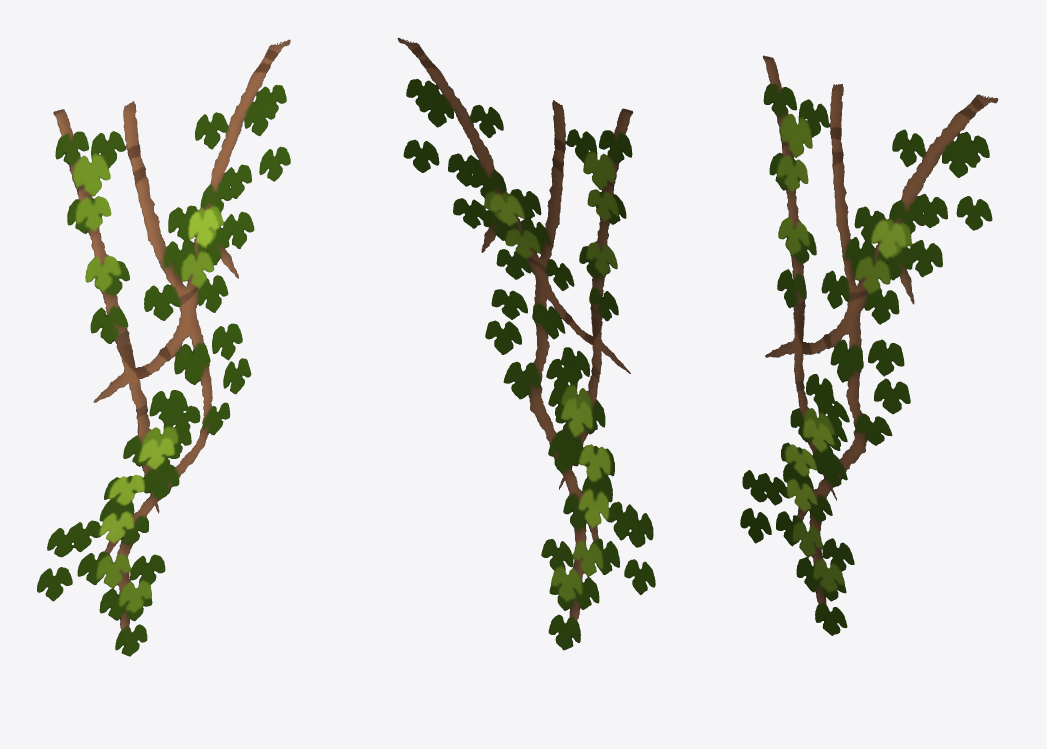
The model's file is sp_veg_ivy_01.fbx.
3 views of the same model, side by side, from view 1: azimuth 30°, elevation 25°; view 2: azimuth 150°, elevation 25°; view 3: azimuth 330°, elevation 25° (orthographic).
Parts seen in each view (by area): view 1: veg_ivy_01; view 2: veg_ivy_01; view 3: veg_ivy_01.
Boxes of the visible parts, <box> form: veg_ivy_01: <box>37,39,290,656</box>; veg_ivy_01: <box>397,38,655,650</box>; veg_ivy_01: <box>740,55,998,635</box>.
Size of the model in its own units: 50 by 100 by 9.47.
